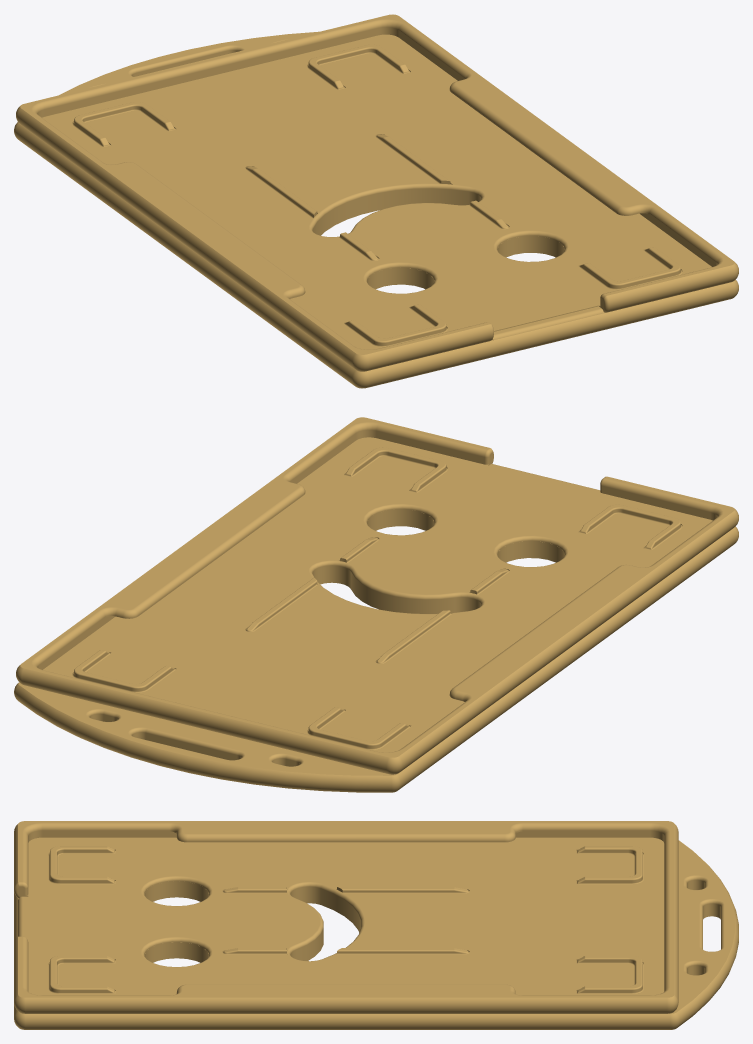
The model's file is mesnap_mango_yellow.glb.
3 renders of one model, top to bottom at view 1: azimuth 30°, elevation 25°; view 2: azimuth 150°, elevation 25°; view 3: azimuth 270°, elevation 25°, orthographic. The views are drawn at different scales.
Visible parts, largest first — view 1: Body2, Body1; view 2: Body2, Body1; view 3: Body2, Body1.
Boxes of the visible parts, box(x1,y1,x2,y2) form: Body2: box(16, 14, 738, 371); Body1: box(14, 31, 738, 388); Body2: box(16, 417, 738, 774); Body1: box(14, 464, 738, 792); Body2: box(14, 821, 678, 1013); Body1: box(14, 840, 738, 1029).
Bounding box in the file's own units: 0.0592 × 0.00492 × 0.1005.
